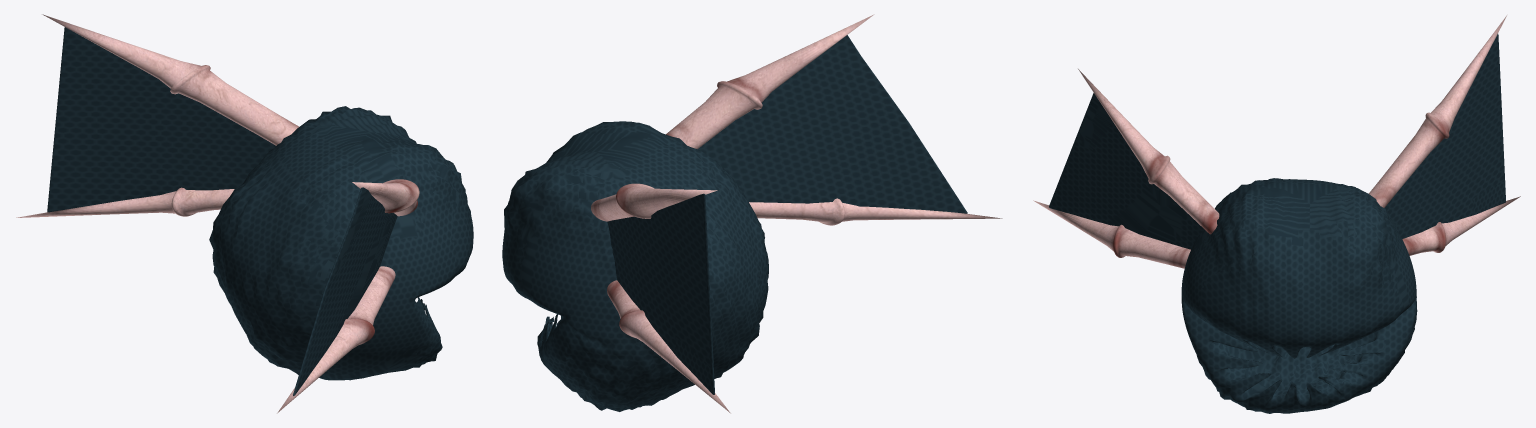
The model's file is Defenders_Textured.fbx.
3 views of the same model, side by side, from view 1: azimuth 30°, elevation 25°; view 2: azimuth 150°, elevation 25°; view 3: azimuth 270°, elevation 25° (orthographic). The views are drawn at different scales.
Parts seen in each view (by area): view 1: Defenders; view 2: Defenders; view 3: Defenders.
Part boxes in pixels (box(x1,y1,x2,y2)): Defenders: box(16, 14, 473, 413); Defenders: box(502, 14, 1002, 413); Defenders: box(1033, 15, 1520, 413).
Size of the model in its own units: 16.78 by 16.05 by 23.62.
